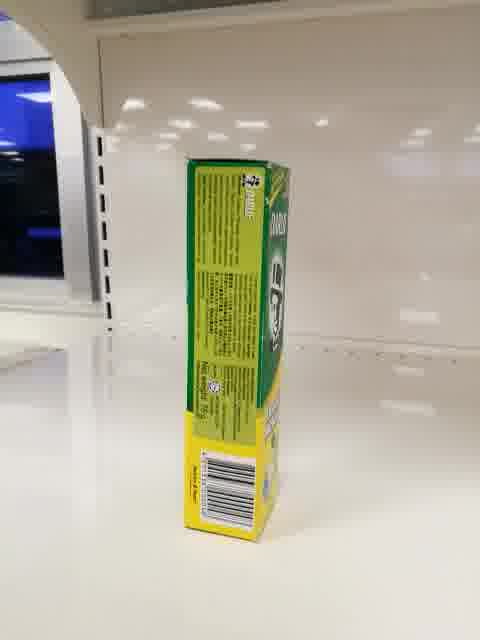toothpaste: (184, 157, 289, 545)
